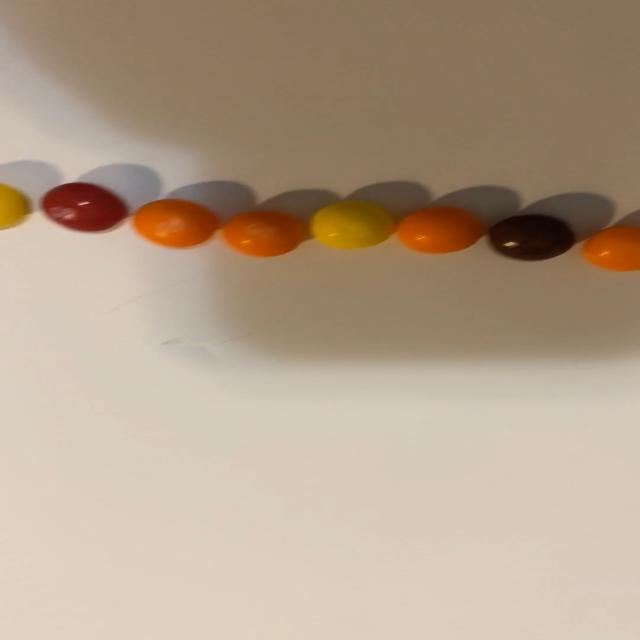smartie: (132, 199, 218, 247), (40, 182, 124, 231), (397, 206, 482, 253), (489, 214, 575, 260), (222, 211, 305, 256), (583, 225, 640, 271)
